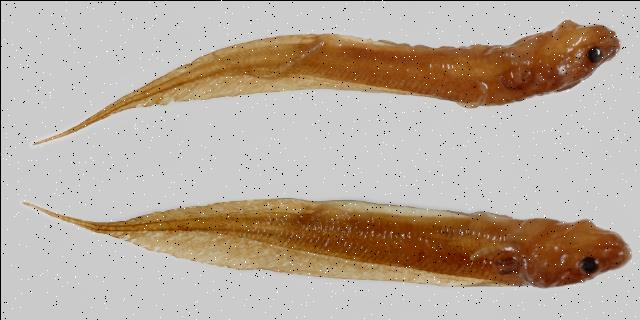Sirip Ekor: (8, 170, 270, 290), (22, 30, 244, 150)
